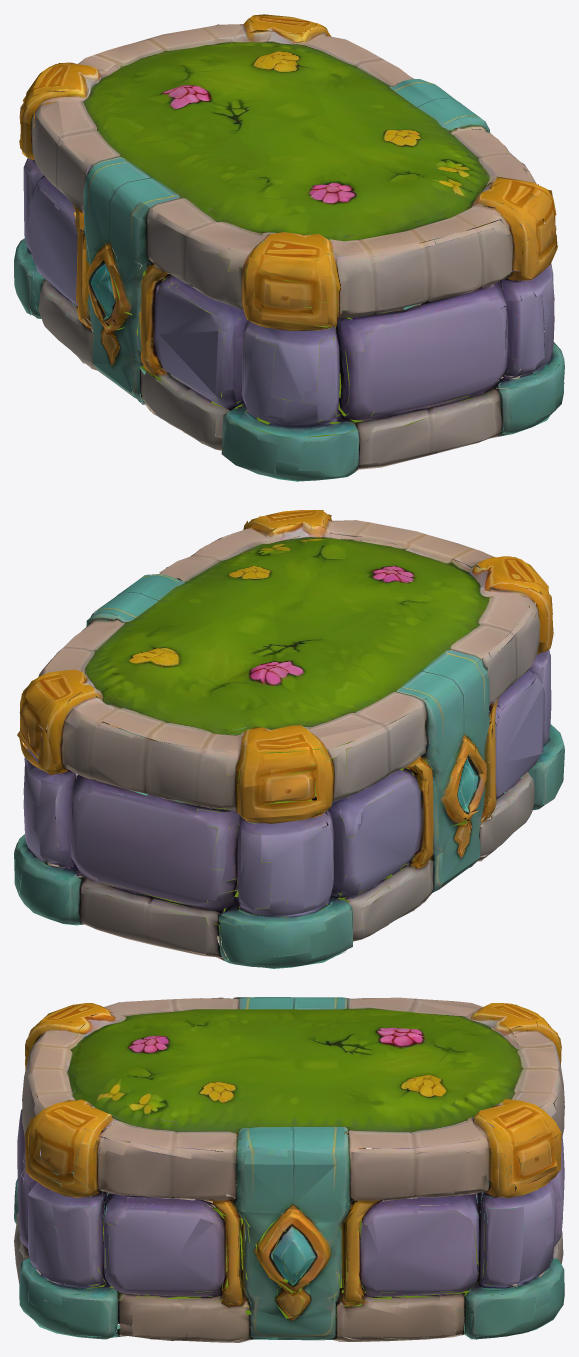
Rendered from 16-garden-rounded-planter.glb.
3 views of the same model, one above another, from view 1: azimuth 30°, elevation 25°; view 2: azimuth 150°, elevation 25°; view 3: azimuth 270°, elevation 25° (orthographic). The views are drawn at different scales.
Parts seen in each view (by area): view 1: tripo_node_37e6f8de; view 2: tripo_node_37e6f8de; view 3: tripo_node_37e6f8de.
Boxes of the visible parts, <box> form: tripo_node_37e6f8de: <box>14,14,564,481</box>; tripo_node_37e6f8de: <box>14,510,564,968</box>; tripo_node_37e6f8de: <box>14,997,564,1342</box>.
Bounding box in the file's own units: 0.4718 × 0.3006 × 0.6236.
Materials: 1 (1 with a texture image).
